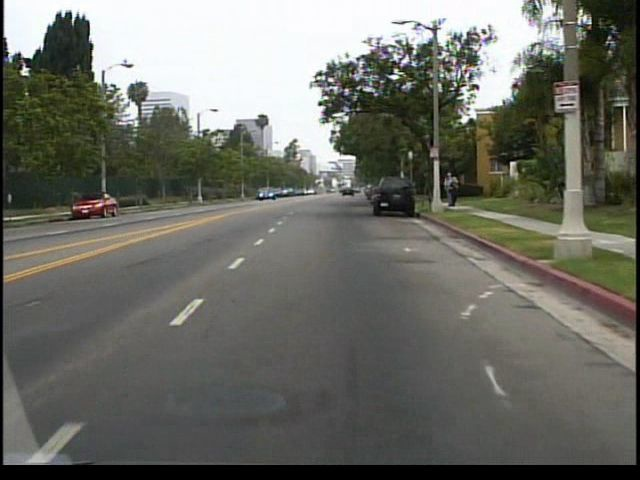person: (444, 169, 460, 209), (449, 173, 462, 207)
